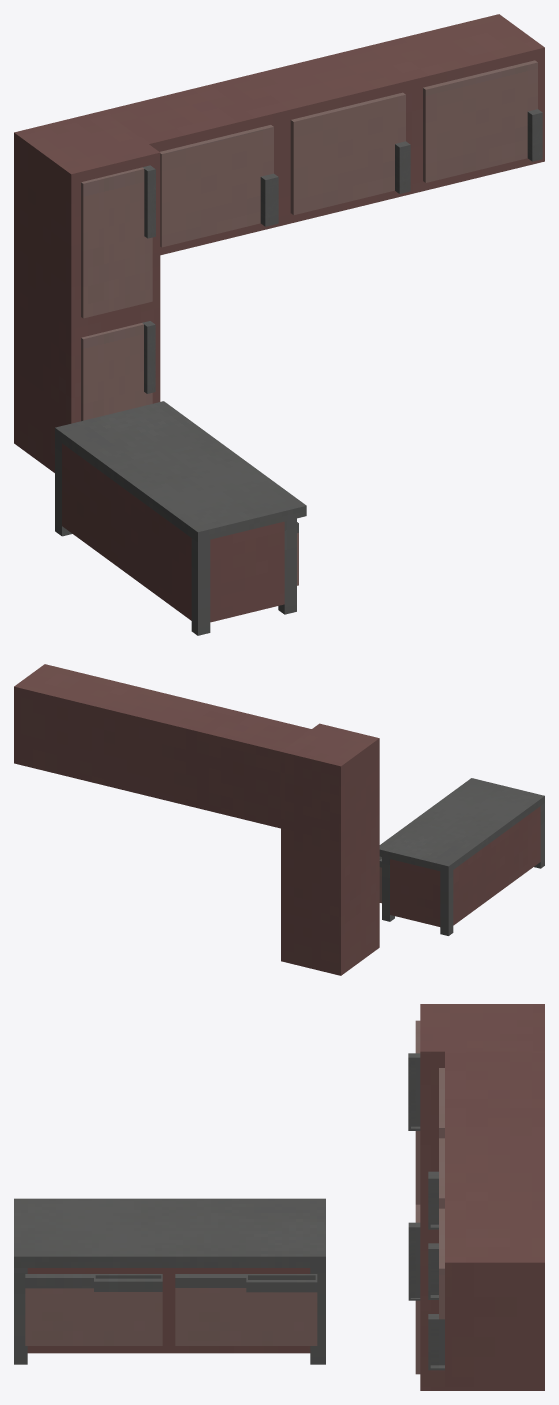
File: cryolab_cabinets.glb
3 renders of one model, top to bottom at view 1: azimuth 30°, elevation 25°; view 2: azimuth 150°, elevation 25°; view 3: azimuth 270°, elevation 25°, orthographic. The views are drawn at different scales.
Visible parts, largest first — view 1: CSGBox3D102, CSGBox3D42, CSGBox3D32, CSGBox3D42.002, CSGBox3D42.001, CSGBox3D42.003, CSGBox3D32.002, CSGBox3D32.001; view 2: CSGBox3D42, CSGBox3D32, CSGBox3D102; view 3: CSGBox3D42, CSGBox3D102, CSGBox3D32, CSGBox3D102.001, CSGBox3D102.002, CSGBox3D32.002, CSGBox3D42.001, CSGBox3D32.001, CSGBox3D42.003, CSGBox3D42.002.
Boxes of the visible parts, x1,y1,x2,y2 form: CSGBox3D102: (55, 401, 306, 635); CSGBox3D42: (103, 14, 544, 255); CSGBox3D32: (14, 111, 160, 472); CSGBox3D42.002: (290, 92, 410, 215); CSGBox3D42.001: (423, 60, 542, 182); CSGBox3D42.003: (160, 125, 278, 247); CSGBox3D32.002: (81, 165, 155, 318); CSGBox3D32.001: (81, 321, 155, 421); CSGBox3D42: (14, 664, 311, 828); CSGBox3D32: (281, 723, 379, 975); CSGBox3D102: (379, 778, 544, 935); CSGBox3D42: (445, 1051, 544, 1386); CSGBox3D102: (14, 1198, 325, 1364); CSGBox3D32: (420, 1004, 544, 1390); CSGBox3D102.001: (175, 1274, 317, 1345); CSGBox3D102.002: (25, 1274, 162, 1345); CSGBox3D32.002: (408, 1020, 420, 1204); CSGBox3D42.001: (428, 1208, 444, 1370); CSGBox3D32.001: (408, 1204, 420, 1374); CSGBox3D42.003: (428, 1068, 444, 1229); CSGBox3D42.002: (428, 1138, 444, 1299).
Size of the model in its own units: 5.5 by 3 by 4.25.
Materials: 1 (1 with a texture image).
